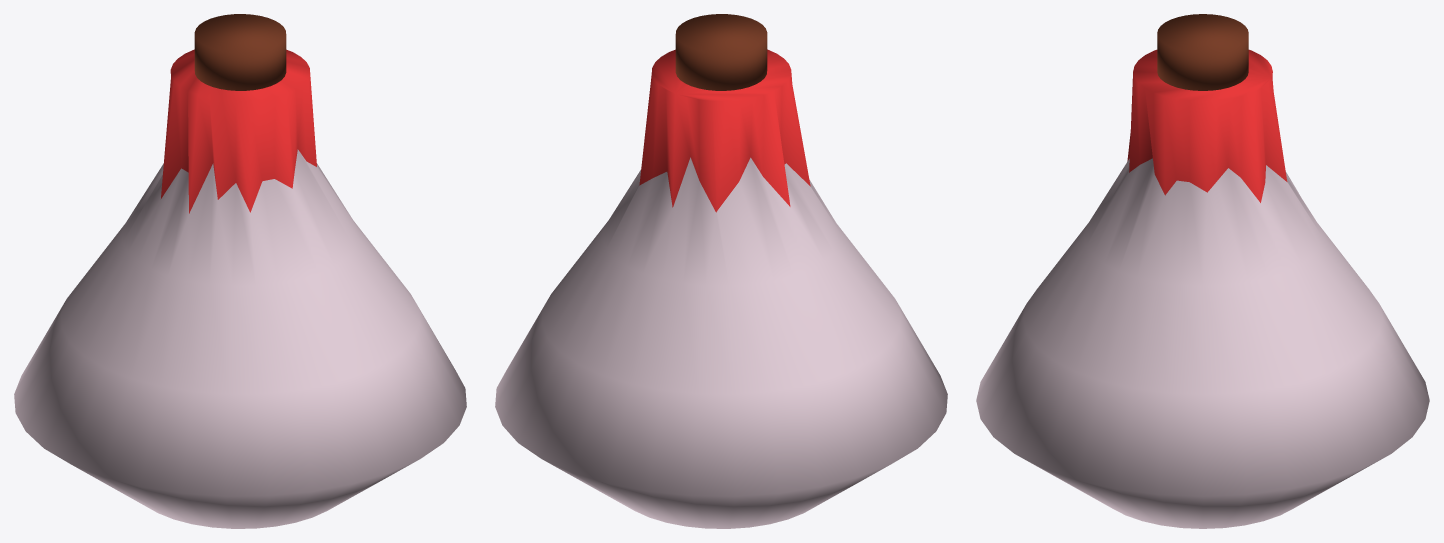
Rendered from healthpotion.fbx.
3 renders of one model, left to right at view 1: azimuth 30°, elevation 25°; view 2: azimuth 150°, elevation 25°; view 3: azimuth 270°, elevation 25°, orthographic.
Parts seen in each view (by area): view 1: Cylinder; view 2: Cylinder; view 3: Cylinder.
Boxes of the visible parts, <box> form: Cylinder: <box>14,14,466,528</box>; Cylinder: <box>495,14,947,528</box>; Cylinder: <box>976,14,1429,528</box>.
Size of the model in its own units: 34.77 by 38.01 by 34.77.
